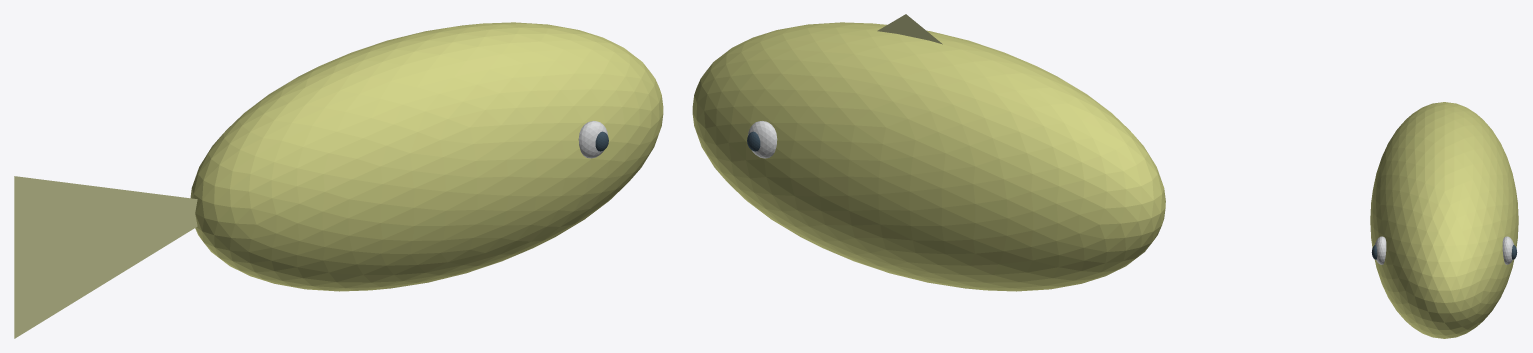
3 views of the same model, side by side, from view 1: azimuth 30°, elevation 25°; view 2: azimuth 150°, elevation 25°; view 3: azimuth 270°, elevation 25° (orthographic). The views are drawn at different scales.
Visible parts, largest first — view 1: fish_00, fish_01, fish_05; view 2: fish_00, fish_02, fish_03; view 3: fish_00, fish_03, fish_05.
Boxes of the visible parts, x1,y1,x2,y2 form: fish_00: (190, 22, 663, 291); fish_01: (14, 176, 197, 338); fish_05: (578, 121, 607, 158); fish_00: (692, 22, 1165, 291); fish_02: (877, 14, 942, 44); fish_03: (748, 121, 777, 158); fish_00: (1370, 102, 1518, 338); fish_03: (1502, 236, 1513, 264); fish_05: (1375, 236, 1386, 264).
Bounding box in the file's own units: 2.78 × 1.05 × 0.76.
